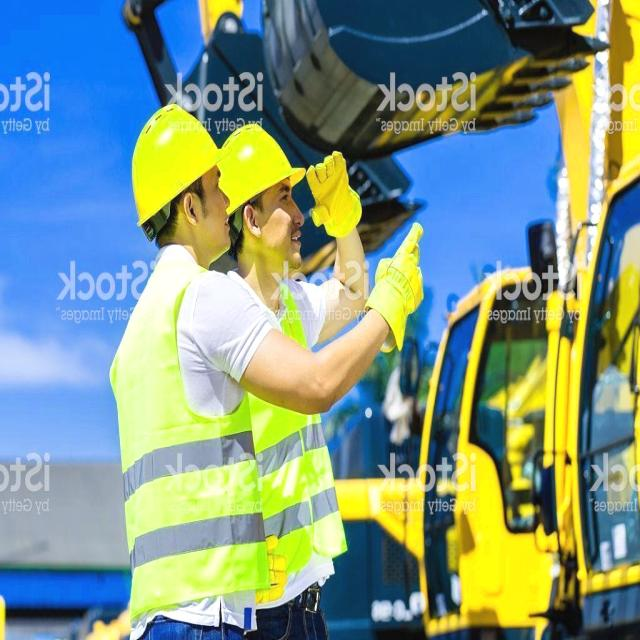face_nomask: (254, 179, 304, 274), (183, 167, 230, 261)
hand_glove: (364, 218, 424, 354), (310, 148, 362, 238)
head_helmet: (126, 92, 232, 228), (217, 126, 306, 202)
person: (117, 100, 261, 640), (230, 108, 326, 576)
vest: (120, 262, 242, 622), (264, 276, 345, 570)
